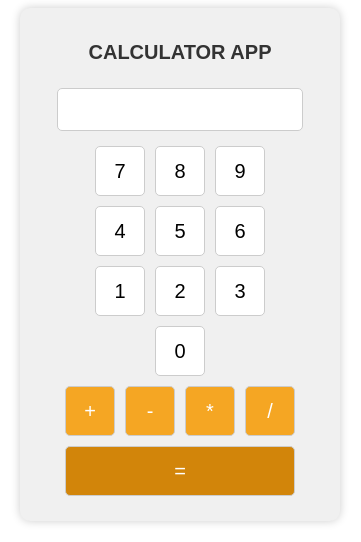
Scenario: reactCalculator › should user input after clicking a number
Click the button "1". click: (120, 291)
box: [95,266,145,316]
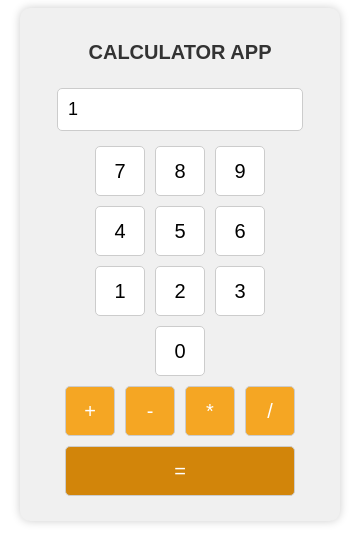
Now the field holds "1", box [57,88,303,131]
